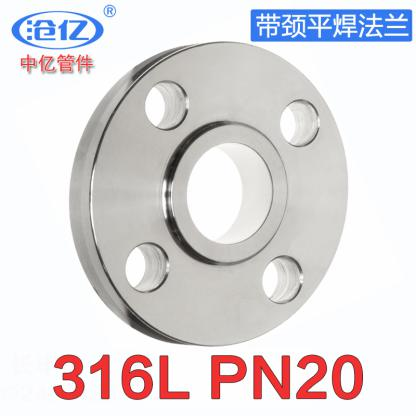FOD: (68, 36, 355, 350)
